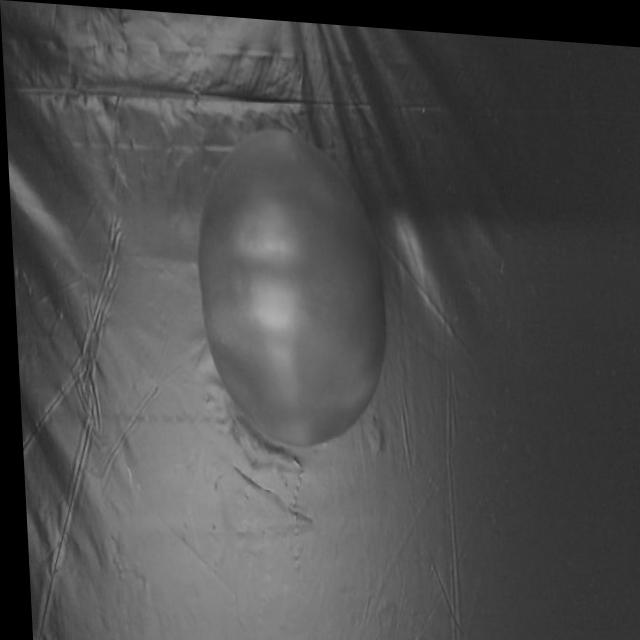kirmizi: (184, 119, 409, 465)
